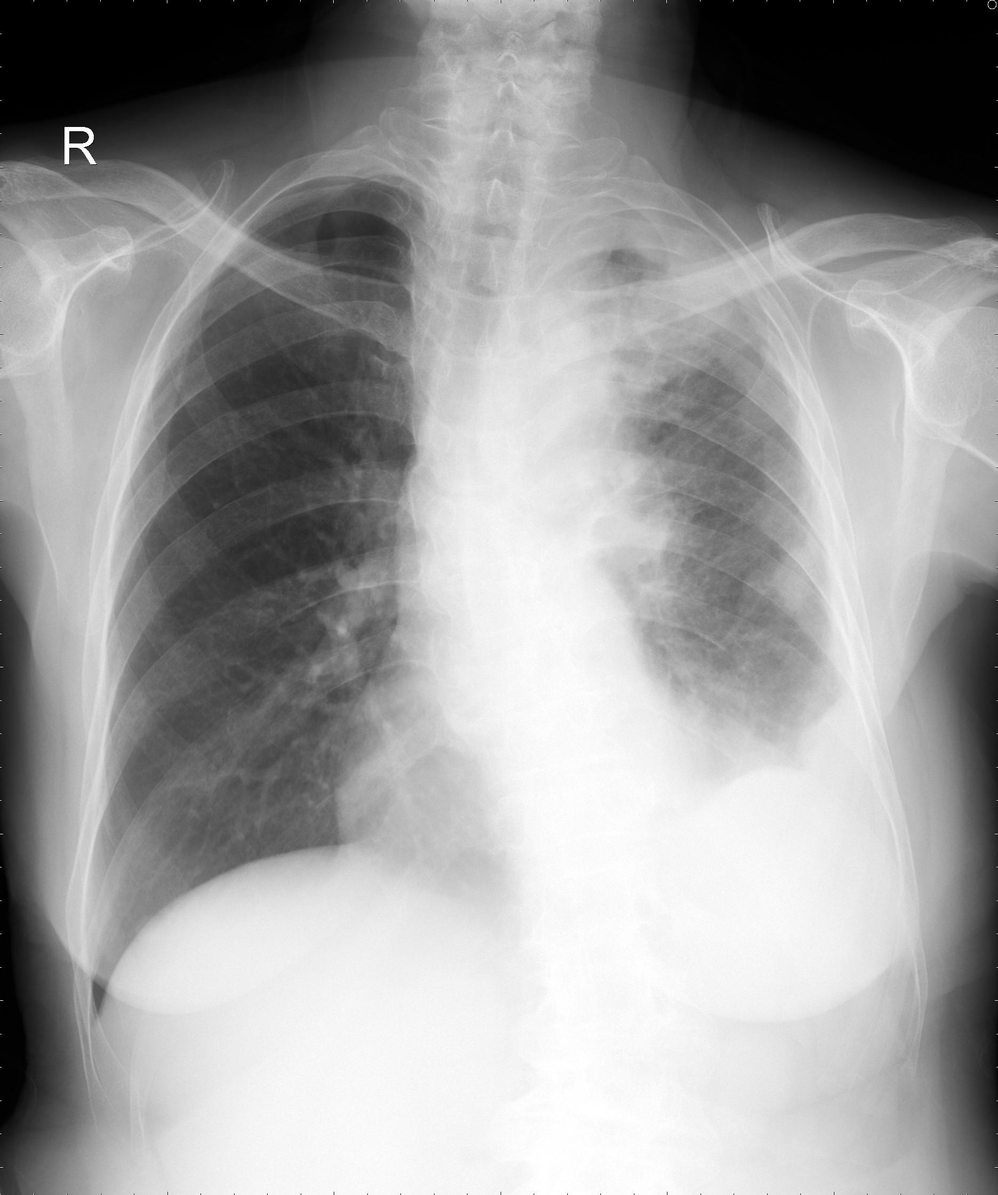Pleural thickening: (619, 212, 867, 666)
